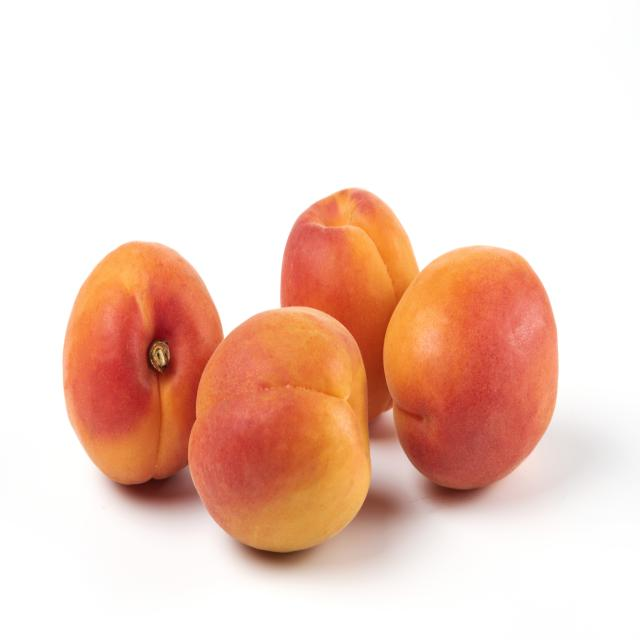peach: (194, 308, 374, 554), (385, 245, 559, 489), (61, 237, 190, 487), (284, 188, 411, 326)
